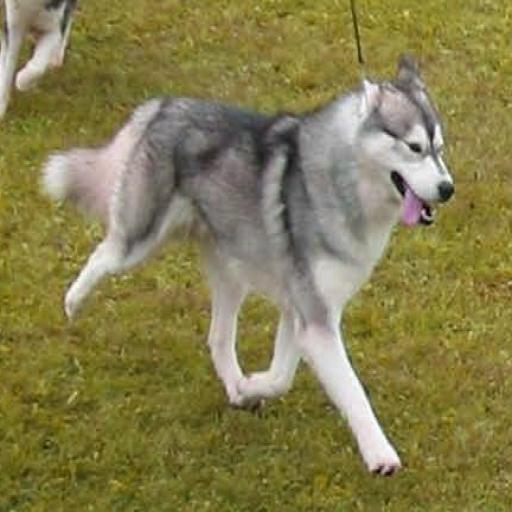dog_face: (356, 59, 477, 232)
